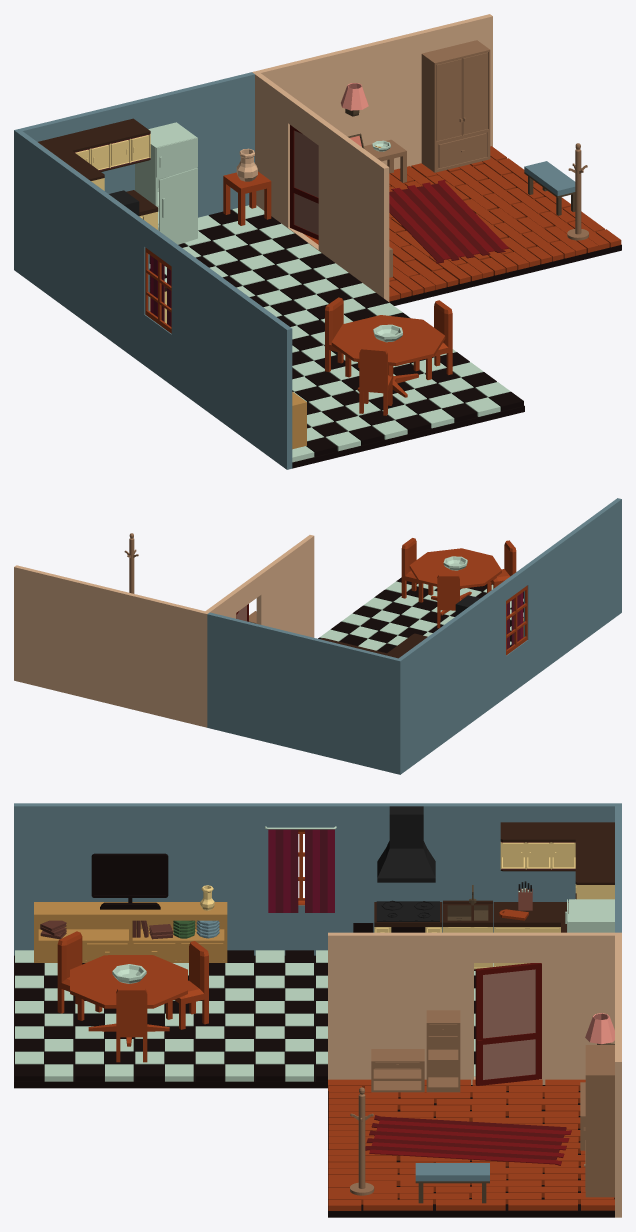
3 renders of one model, top to bottom at view 1: azimuth 30°, elevation 25°; view 2: azimuth 150°, elevation 25°; view 3: azimuth 270°, elevation 25°, orthographic. The views are drawn at different scales.
Visible parts, largest first — view 1: KitchenWall, KitchenFloor, EntranceWall, EntranceFloor, Wardrobe, KitchenTable, Carpet, Fridge, KitchenSet, Door, VaseTable, Stool (+4 smaller); view 2: KitchenWall, EntranceWall, KitchenFloor, KitchenTable, KitchenSet, CoatRack; view 3: KitchenWall, KitchenFloor, EntranceWall, EntranceFloor, KitchenSet, KitchenTVSet, KitchenTable, Door, Carpet, Drawer1, Wardrobe, Stool (+3 smaller).
Part boxes in pixels (left/top/right/bottom): KitchenWall: left=14, top=72, right=292, bottom=469; KitchenFloor: left=149, top=205, right=524, bottom=468; EntranceWall: left=252, top=14, right=492, bottom=302; EntranceFloor: left=304, top=146, right=621, bottom=305; Wardrobe: left=421, top=40, right=490, bottom=172; KitchenTable: left=325, top=297, right=452, bottom=415; Carpet: left=389, top=179, right=508, bottom=263; Fridge: left=135, top=122, right=197, bottom=244; KitchenSet: left=38, top=118, right=166, bottom=323; Door: left=290, top=125, right=318, bottom=239; VaseTable: left=223, top=148, right=271, bottom=225; Stool: left=524, top=161, right=575, bottom=215; KitchenWall: left=207, top=498, right=621, bottom=774; EntranceWall: left=14, top=535, right=314, bottom=727; KitchenFloor: left=318, top=577, right=523, bottom=653; KitchenTable: left=401, top=538, right=516, bottom=628; KitchenSet: left=321, top=595, right=480, bottom=658; CoatRack: left=124, top=533, right=138, bottom=593; KitchenWall: left=14, top=803, right=621, bottom=955; KitchenFloor: left=14, top=950, right=493, bottom=1088; EntranceWall: left=328, top=932, right=621, bottom=1217; EntranceFloor: left=328, top=1079, right=614, bottom=1217; KitchenSet: left=353, top=806, right=614, bottom=970; KitchenTVSet: left=34, top=853, right=227, bottom=962; KitchenTable: left=57, top=931, right=208, bottom=1062; Door: left=475, top=963, right=541, bottom=1085; Carpet: left=365, top=1115, right=571, bottom=1165; Drawer1: left=371, top=1010, right=460, bottom=1092; Wardrobe: left=583, top=1045, right=614, bottom=1197; Stool: left=415, top=1163, right=489, bottom=1203.
Bounding box in the file's own units: 22.94 × 6.44 × 22.79.
Materials: 1 (1 with a texture image).
